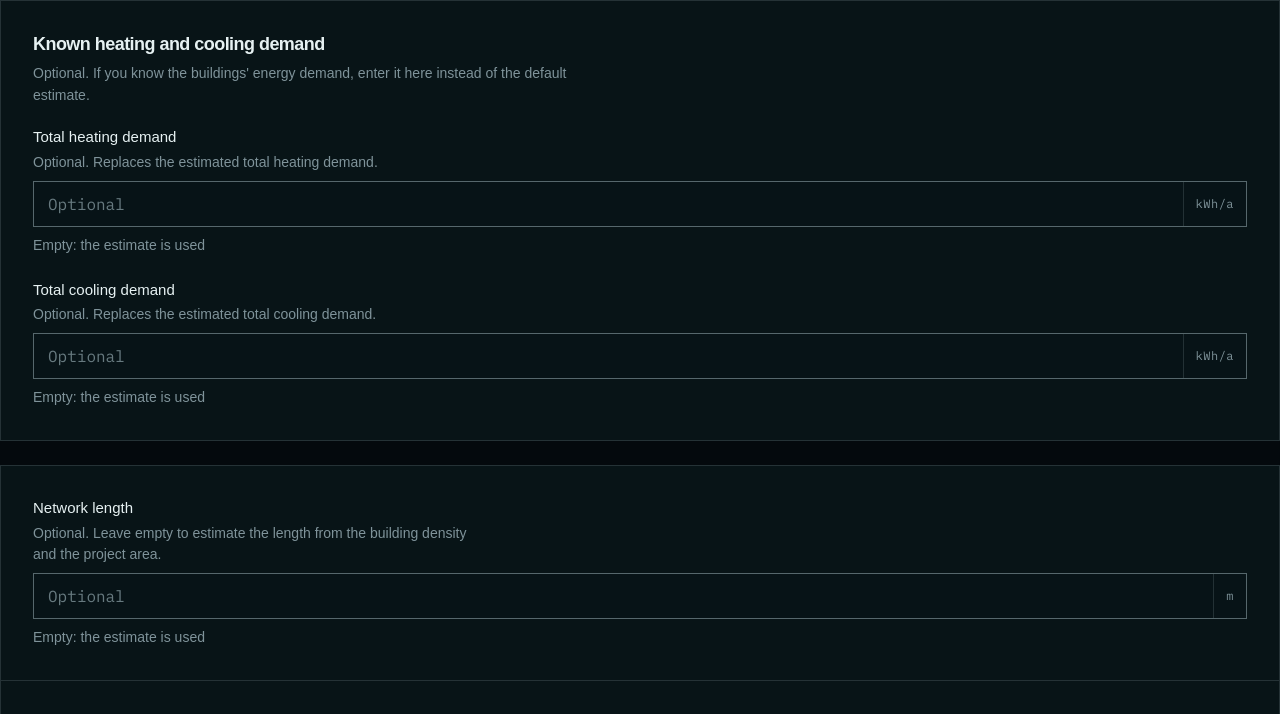
Scenario: OptionsStep (QCT-IN-05, 08, 09) › rejects a negative demand
This screenshot has width=1280, height=714.
Type "-5" into the field labelled "Total cooling demand".
click(608, 356); type("-5")  # box [34,334,1183,378]
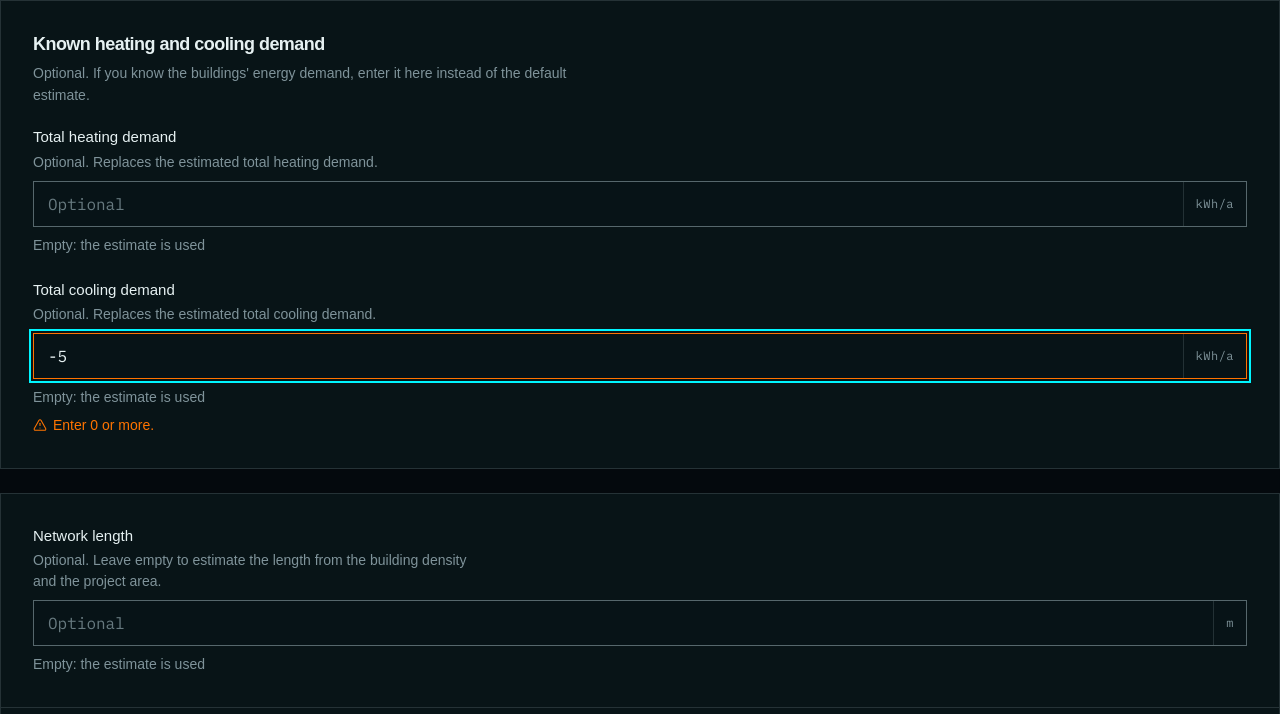
Result: the message reads "Enter 0 or more." at [53,417,154,433]
